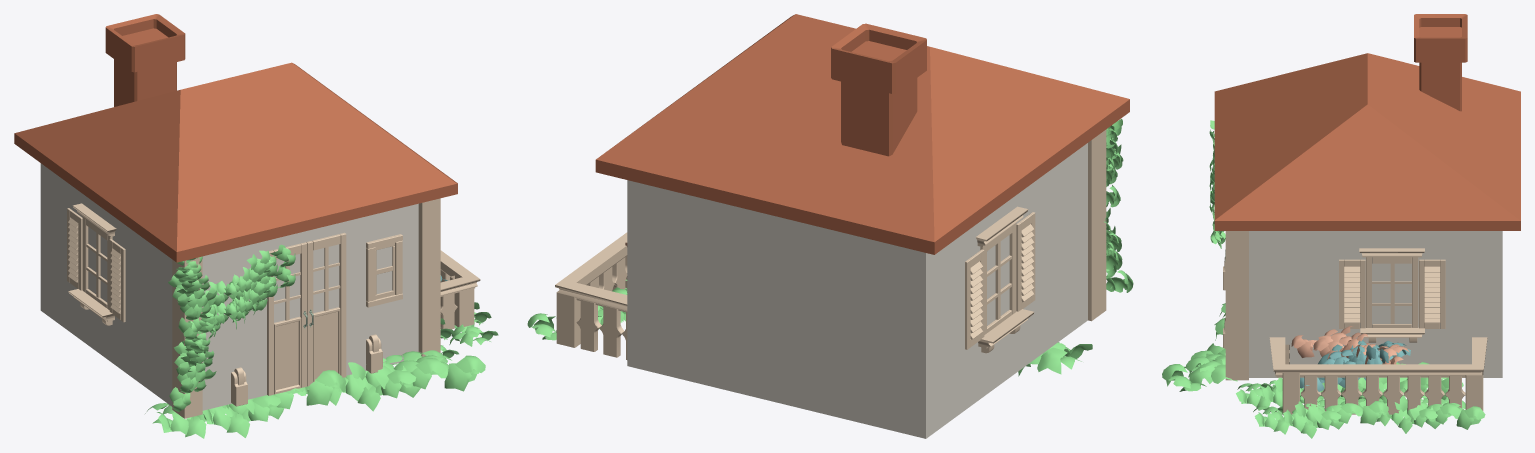
File: SmallHouse1.fbx
The picture shows the model from 3 angles, left to right: view 1: azimuth 30°, elevation 25°; view 2: azimuth 150°, elevation 25°; view 3: azimuth 270°, elevation 25°; orthographic projection. The views are drawn at different scales.
Visible parts, largest first — view 1: pasted__polySurface1422; view 2: pasted__polySurface1422; view 3: pasted__polySurface1422.
Boxes of the visible parts, x1,y1,x2,y2 form: pasted__polySurface1422: (14, 14, 498, 438); pasted__polySurface1422: (527, 14, 1133, 438); pasted__polySurface1422: (1162, 14, 1520, 438).
Bounding box in the file's own units: 27.28 × 23.04 × 24.7.
